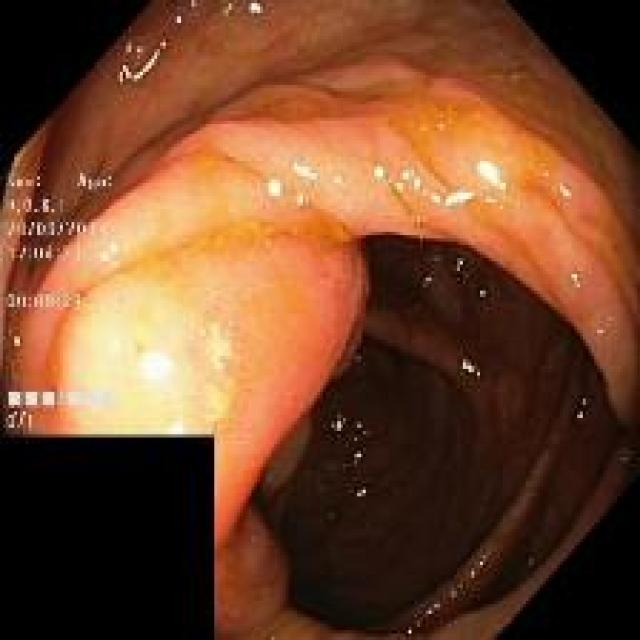Polyps: (52, 227, 366, 535)
